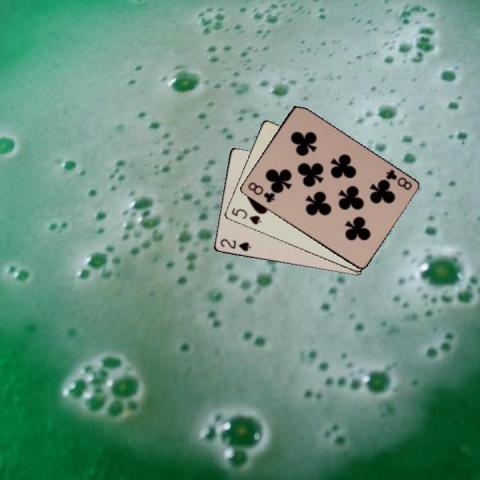2s: (217, 236, 252, 253)
5s: (228, 205, 263, 226)
8c: (245, 178, 276, 205), (383, 167, 413, 191)
